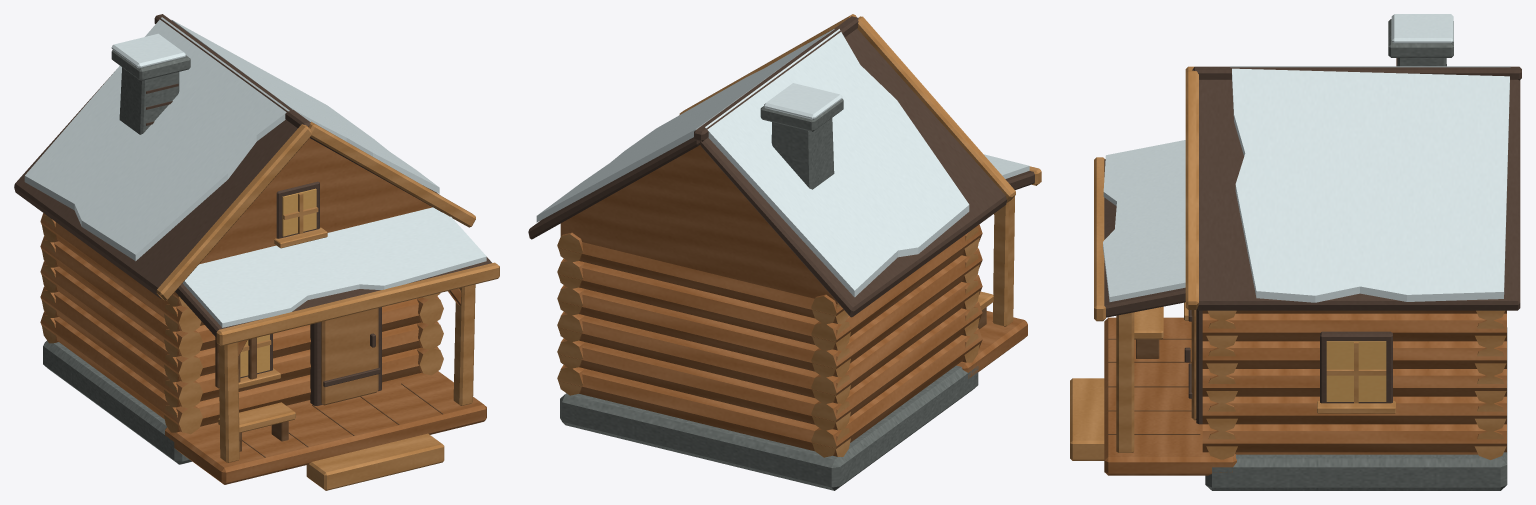
The model's file is Cabin_A_Compact.fbx.
3 views of the same model, side by side, from view 1: azimuth 30°, elevation 25°; view 2: azimuth 150°, elevation 25°; view 3: azimuth 270°, elevation 25° (orthographic). The views are drawn at different scales.
Parts seen in each view (by area): view 1: Cabin_A_Compact; view 2: Cabin_A_Compact; view 3: Cabin_A_Compact.
Boxes of the visible parts, x1,y1,x2,y2 form: Cabin_A_Compact: (14, 14, 499, 490); Cabin_A_Compact: (528, 14, 1041, 490); Cabin_A_Compact: (1070, 14, 1521, 490).
Bounding box in the file's own units: 4.73 × 4.73 × 5.33.
